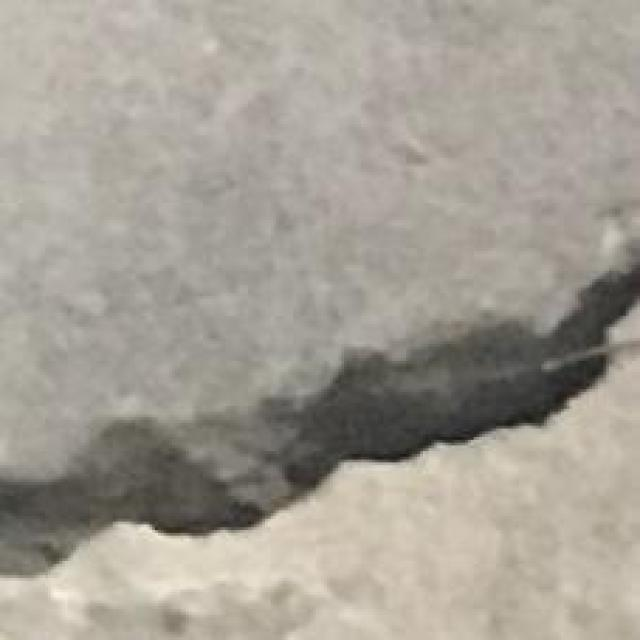Crack: (3, 256, 640, 572)
